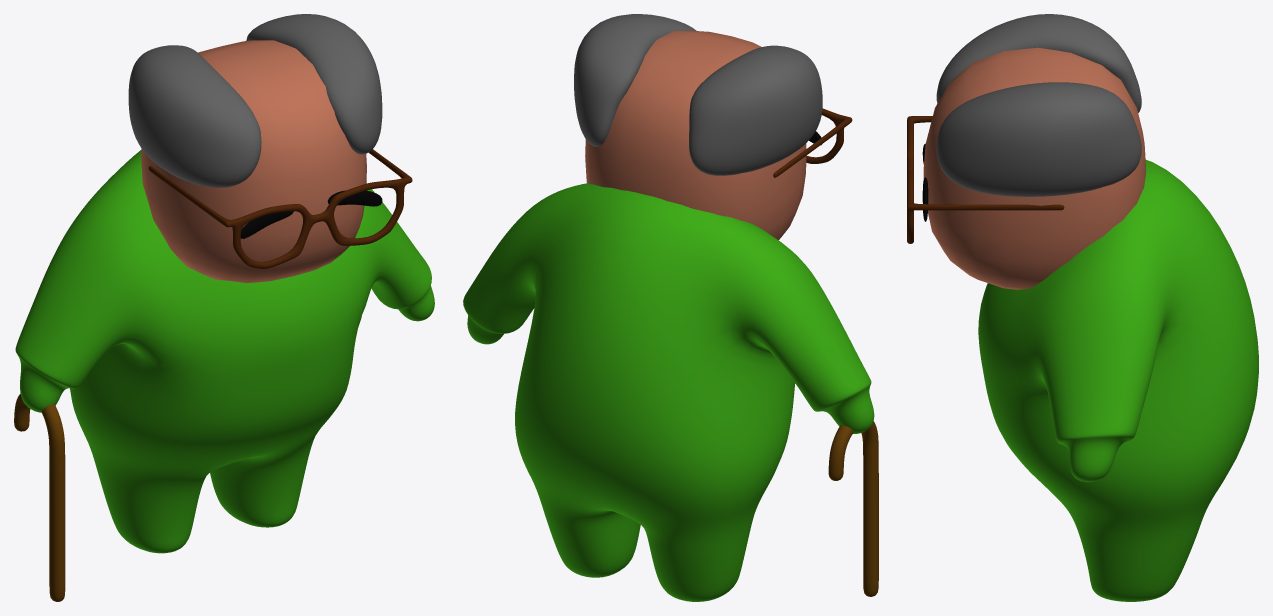
File: Grandpa.FBX
3 views of the same model, side by side, from view 1: azimuth 30°, elevation 25°; view 2: azimuth 150°, elevation 25°; view 3: azimuth 270°, elevation 25° (orthographic).
Visible parts, largest first — view 1: Box001, Box002, Box007, Box006, Box005, Box004; view 2: Box001, Box007, Box002, Box005, Box006; view 3: Box001, Box007, Box002, Box006.
Part boxes in pixels (left/top/right/bottom): Box001: left=15, top=150, right=434, bottom=553; Box002: left=141, top=40, right=366, bottom=283; Box007: left=128, top=14, right=382, bottom=187; Box006: left=148, top=149, right=412, bottom=268; Box005: left=14, top=394, right=65, bottom=601; Box004: left=240, top=190, right=382, bottom=238; Box001: left=463, top=183, right=874, bottom=601; Box007: left=574, top=14, right=822, bottom=175; Box002: left=585, top=30, right=806, bottom=240; Box005: left=828, top=421, right=878, bottom=596; Box006: left=773, top=108, right=852, bottom=177; Box001: left=978, top=160, right=1258, bottom=601; Box007: left=936, top=14, right=1141, bottom=196; Box002: left=923, top=47, right=1146, bottom=289; Box006: left=907, top=116, right=1064, bottom=243.
Size of the model in its own units: 44.13 by 53.75 by 33.27.
